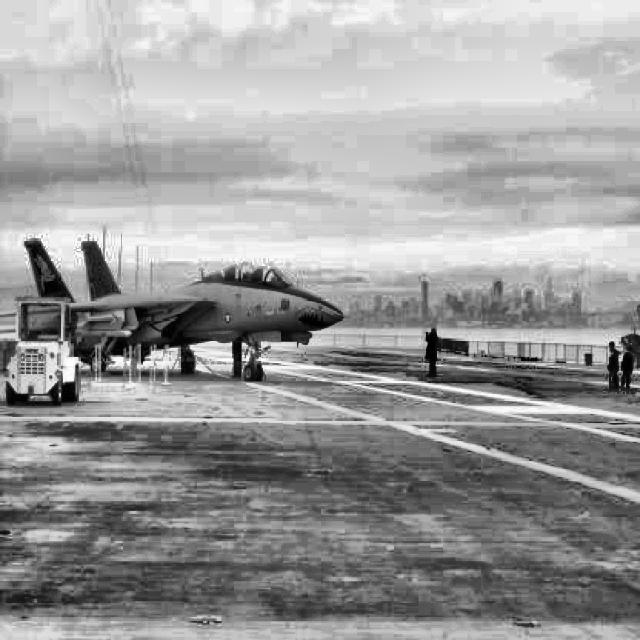F14: (0, 238, 351, 382)
